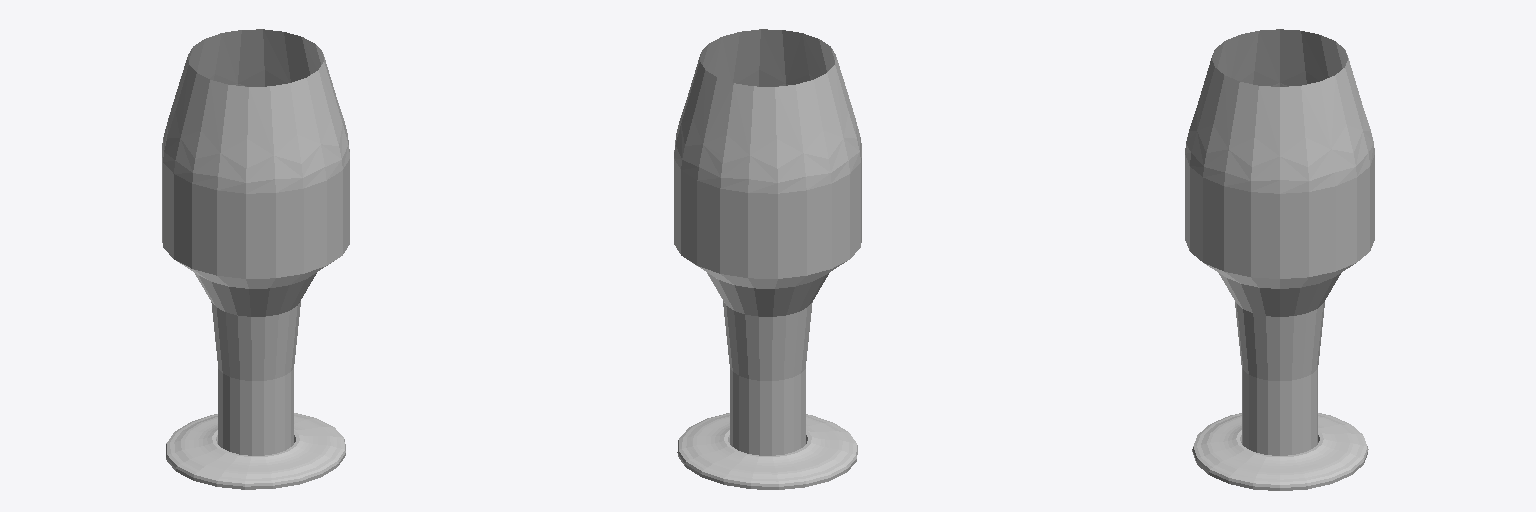
Rendered from copa1.obj.
The picture shows the model from 3 angles: view 1: azimuth 30°, elevation 25°; view 2: azimuth 150°, elevation 25°; view 3: azimuth 270°, elevation 25°; orthographic projection.
Visible parts, largest first — view 1: Copa:GrupoMesa; view 2: Copa:GrupoMesa; view 3: Copa:GrupoMesa.
Part boxes in pixels (left/top/right/bottom): Copa:GrupoMesa: left=162, top=29, right=349, bottom=489; Copa:GrupoMesa: left=674, top=29, right=861, bottom=489; Copa:GrupoMesa: left=1185, top=29, right=1374, bottom=490.
Bounding box in the file's own units: 0.311 × 0.715 × 0.3114.